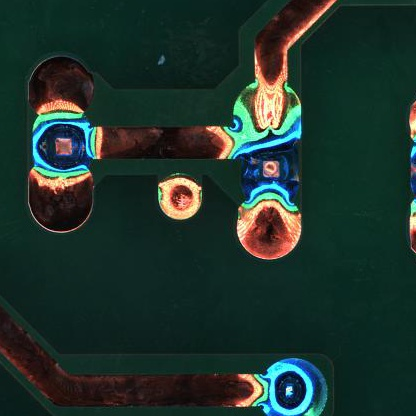spot: (31, 112, 98, 174), (239, 142, 302, 205), (265, 356, 328, 416)
